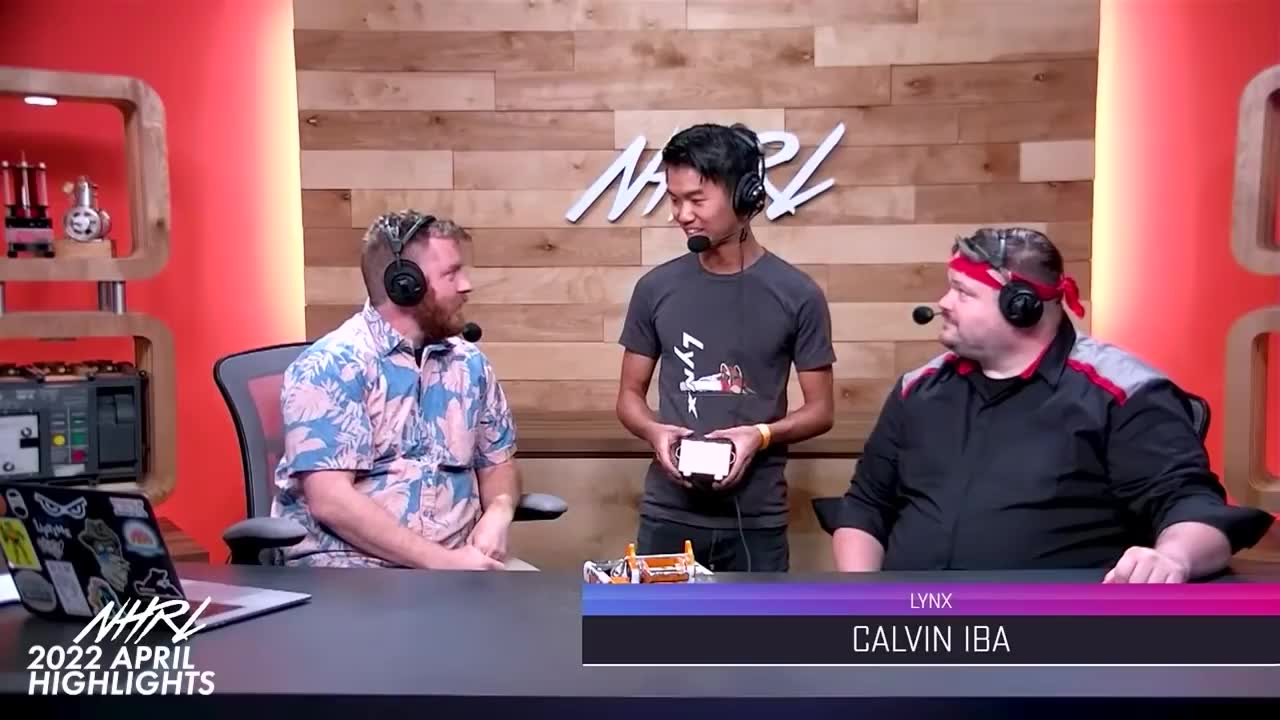combatbot: (582, 541, 713, 583)
